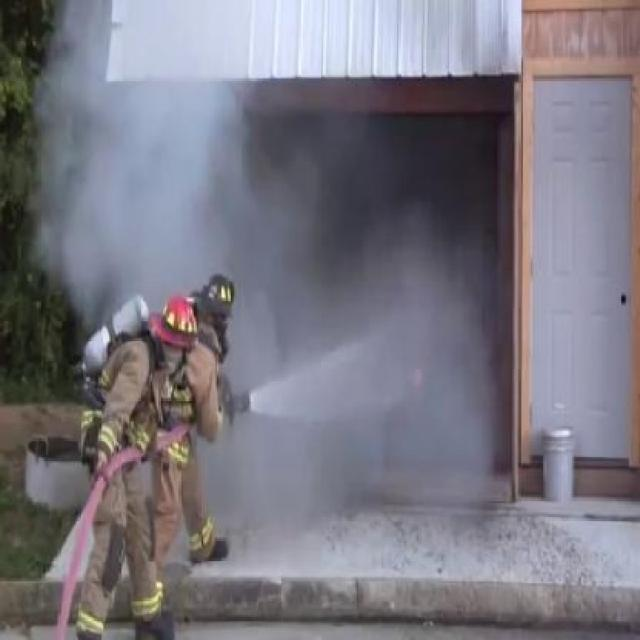smoke: (42, 18, 242, 282), (345, 186, 503, 502)
